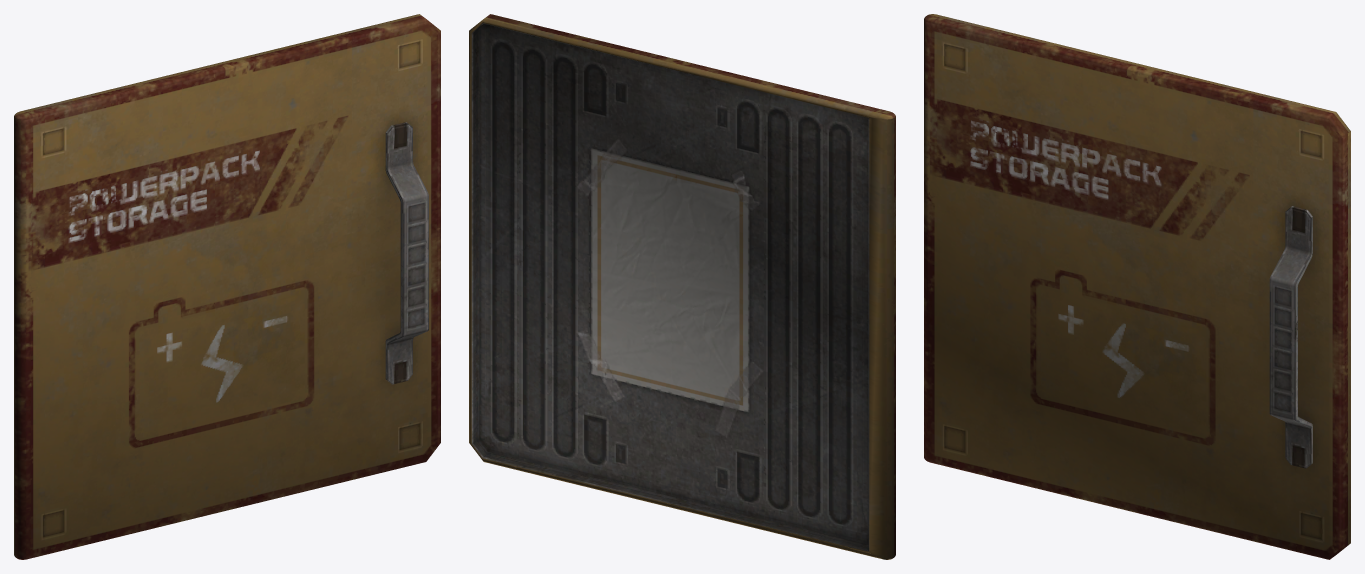
The model's file is cabinet_powerpack_battery_storage_door.dae.
The picture shows the model from 3 angles, left to right: view 1: azimuth 30°, elevation 25°; view 2: azimuth 150°, elevation 25°; view 3: azimuth 330°, elevation 25°; orthographic projection.
Parts seen in each view (by area): view 1: polySurface11; view 2: polySurface11; view 3: polySurface11.
Boxes of the visible parts, left/top/right/bottom form: polySurface11: left=14, top=14, right=440, bottom=559; polySurface11: left=469, top=14, right=895, bottom=559; polySurface11: left=924, top=14, right=1350, bottom=559.
Size of the model in its own units: 0.4057 by 0.4068 by 0.0435.
Materials: 1 (1 with a texture image).
